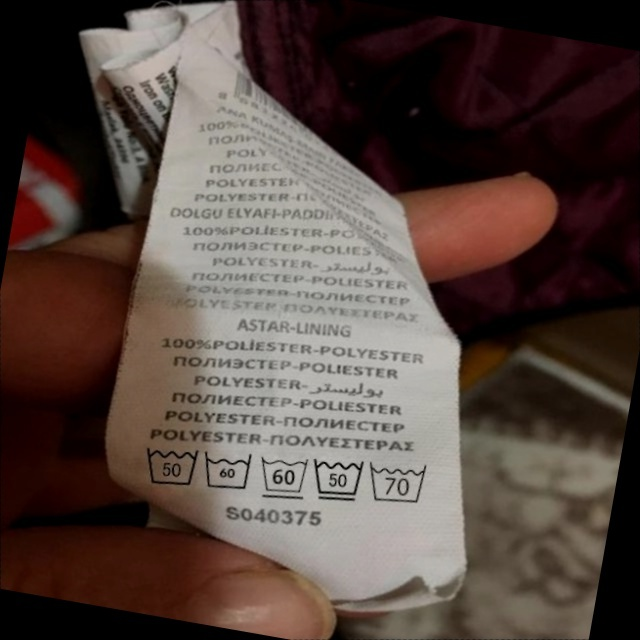50C: (132, 430, 211, 501), (303, 445, 375, 514)
60C: (251, 443, 320, 509), (194, 439, 264, 503)
70C: (361, 449, 441, 516)
